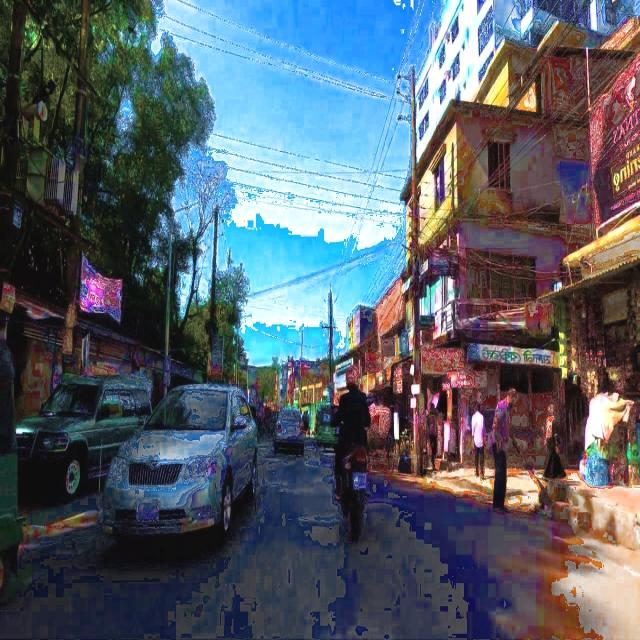green: (13, 372, 156, 494)
silver: (102, 378, 257, 562)
white: (274, 406, 306, 454)
